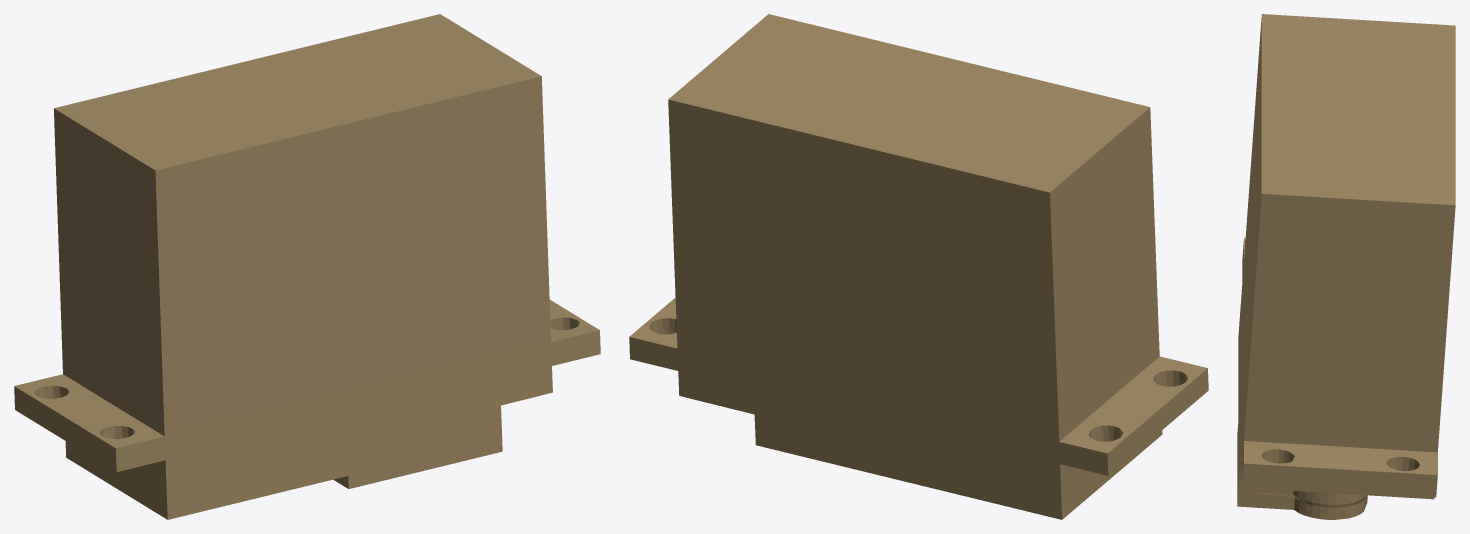
Rendered from left_shoulder_x_link_visual_4.obj.light.glb.
3 renders of one model, left to right at view 1: azimuth 30°, elevation 25°; view 2: azimuth 150°, elevation 25°; view 3: azimuth 270°, elevation 25°, orthographic. The views are drawn at different scales.
Size of the model in its own units: 0.7755 by 0.5533 by 0.3176.
